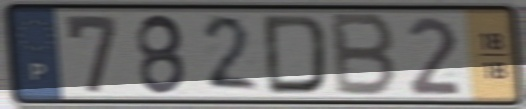2: (401, 12, 465, 98), (201, 12, 261, 98)
7: (61, 12, 121, 96)
8: (133, 11, 189, 98)
B: (330, 10, 399, 100)
D: (261, 12, 332, 98)
